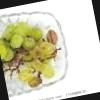Grape Rotten: (0, 14, 67, 91)
